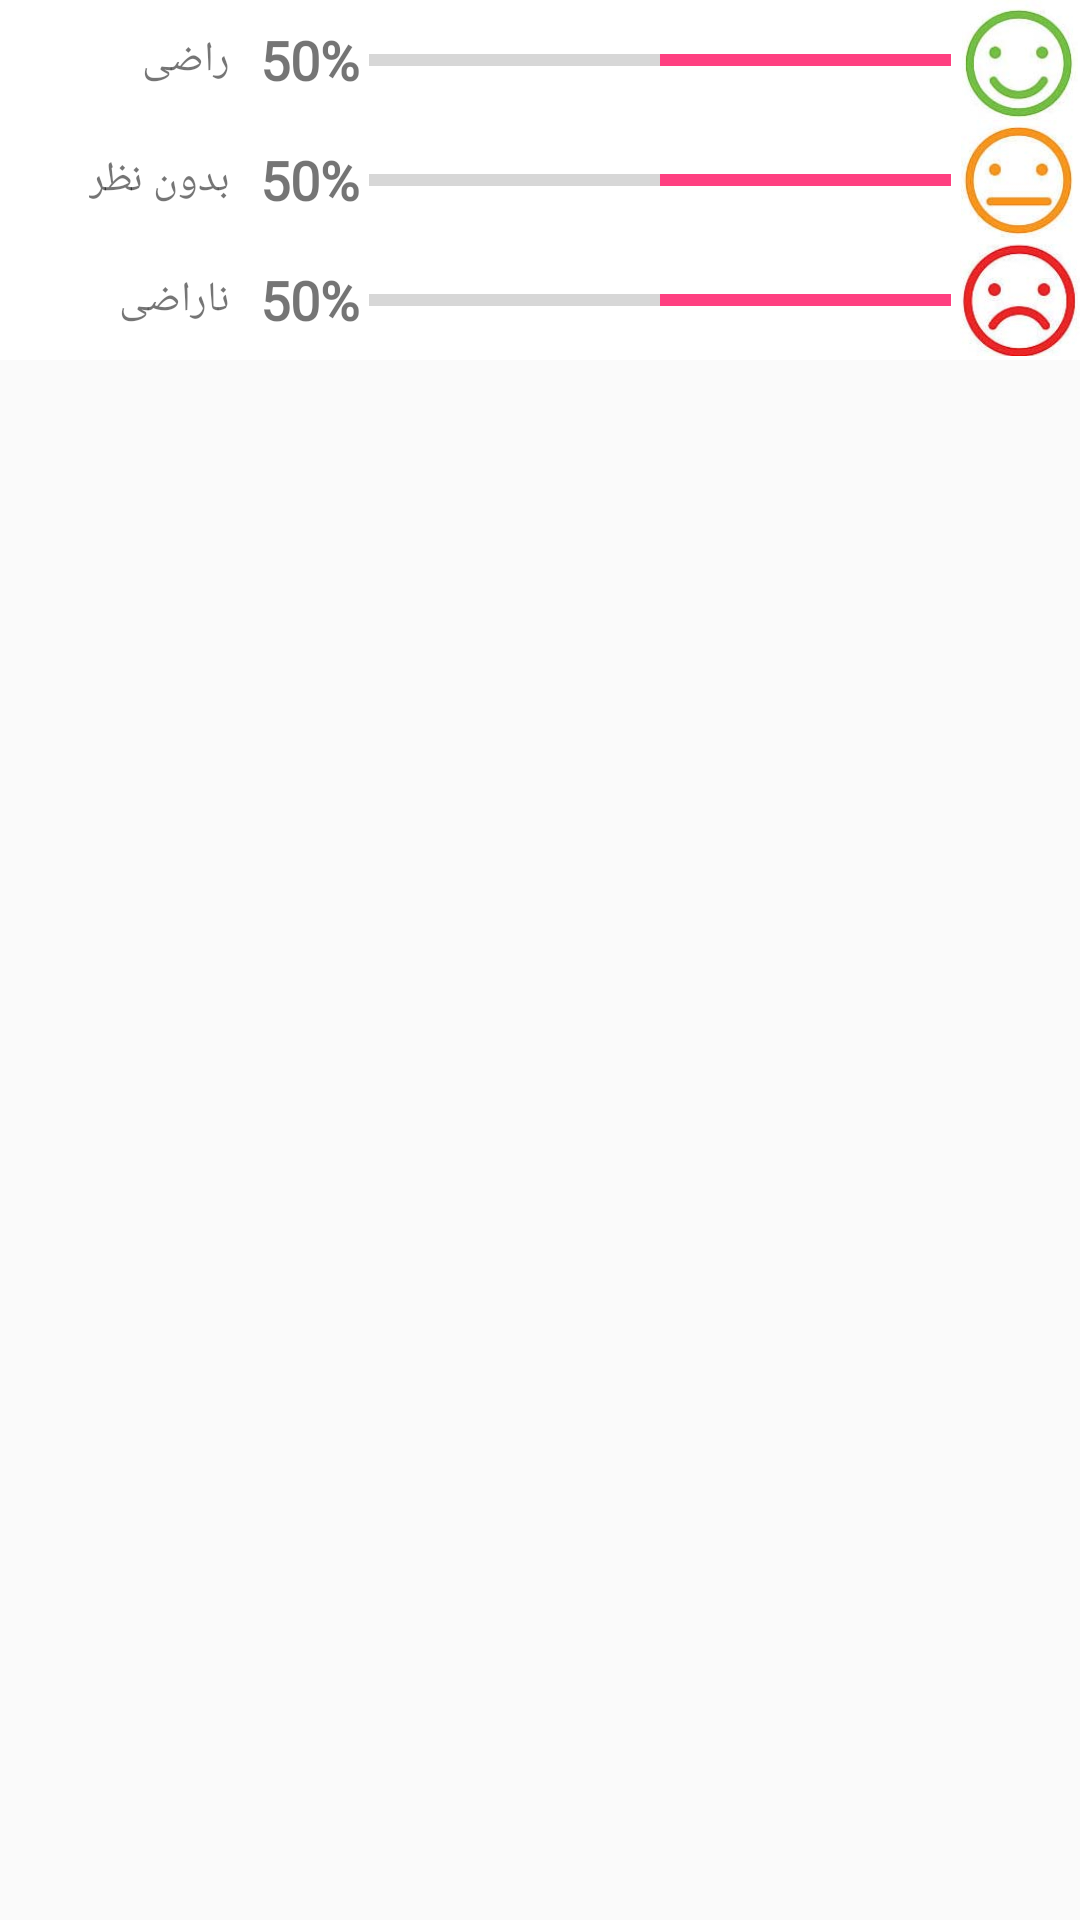

Locate icon controls on the screen. Image size 1080 x 1920, boxes as {"left": x1, "top": y1, "right": x2, "bottom": y2}.
happy: {"left": 965, "top": 10, "right": 1073, "bottom": 117}
pokerface: {"left": 964, "top": 127, "right": 1073, "bottom": 234}
sad: {"left": 963, "top": 244, "right": 1076, "bottom": 356}
